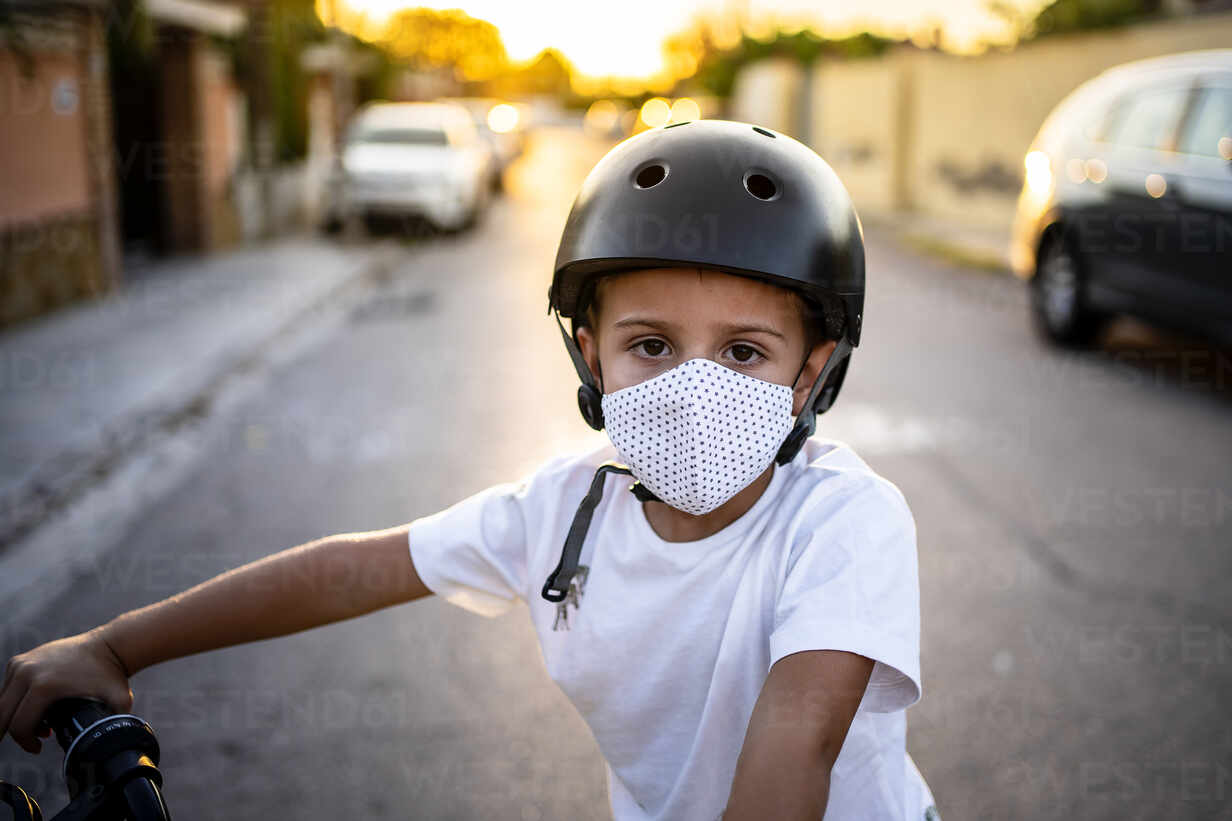helmet: (548, 119, 866, 517)
